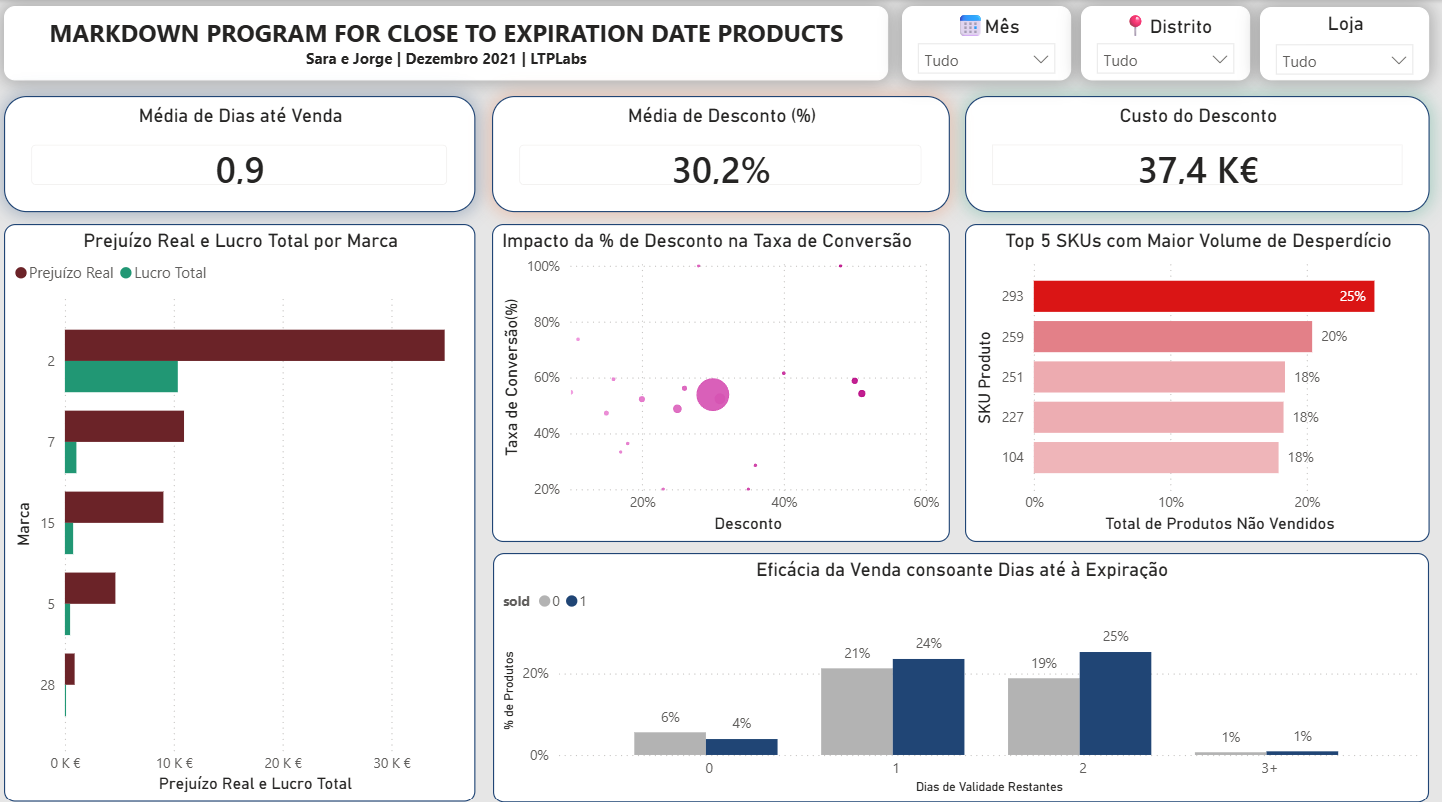

This screenshot's page, from the dashboard's own definition file:
{"tool":"powerbi","page":{"name":"Analysis","canvas":[1280,720],"ordinal":1},"visuals":[{"type":"textbox","box":[3.3,5.6,784.4,65.6],"z":0},{"type":"cardVisual","title":"Média de Dias até Venda","fields":{"Data":["Products.Média de dias até venda"]},"box":[3.3,85.6,417.8,103.3],"z":1000},{"type":"cardVisual","title":"Custo do Desconto","fields":{"Data":["Products.Custo do desconto"]},"box":[855.6,85.6,412.2,103.3],"z":2000},{"type":"cardVisual","title":"Média de Desconto (%)","fields":{"Data":["Avg(Products.Desconto)"]},"box":[436.7,85.6,405.6,103.3],"z":3000},{"type":"slicer","title":"📅Mês ","fields":{"Values":["Calendario.Mês"]},"box":[800,5.6,150,65.6],"z":4000},{"type":"slicer","title":"📍Distrito","fields":{"Values":["Stores.district"]},"box":[958.9,5.6,150,65.6],"z":5000},{"type":"slicer","title":"Loja","fields":{"Values":["Stores.idstore"]},"box":[1117.4,5.8,150,65.1],"z":6000},{"type":"clusteredBarChart","fields":{"Y":["Products.Prejuízo Real","Products.Lucro Total"],"Category":["Products.brand"]},"box":[3.3,198.9,417.8,513.3],"z":7000},{"type":"barChart","title":"Top 5 SKUs com Maior Volume de Desperdício","fields":{"Y":["Products.Total de Produtos Não Vendidos"],"Category":["Products.sku"]},"box":[855.6,198.9,412.2,282.2],"z":9000},{"type":"scatterChart","title":"Impacto da % de Desconto na Taxa de Conversão","fields":{"X":["Products.discount"],"Y":["Products.Taxa de Conversão(%)"],"Size":["Sum(Products.labelqty)"]},"box":[436.7,198.9,405.6,282.2],"z":10000},{"type":"clusteredColumnChart","title":"Eficácia da Venda consoante Dias até à Expiração","fields":{"Series":["Products.sold"],"Y":["Sum(Products.sku)"],"Category":["Products.Days Group"]},"box":[437.2,490.7,830.2,222.1],"z":10001}]}

Visuals, with their boxes in screenshot pixels (x1, y1, x2, y2), scaled from the page's 1280x720 canvas onto the 1442x802 screenshot:
textbox: box(4, 6, 887, 79)
"Média de Dias até Venda" cardVisual: box(4, 95, 474, 210)
"Custo do Desconto" cardVisual: box(964, 95, 1428, 210)
"Média de Desconto (%)" cardVisual: box(492, 95, 949, 210)
"📅Mês " slicer: box(901, 6, 1070, 79)
"📍Distrito" slicer: box(1080, 6, 1249, 79)
"Loja" slicer: box(1259, 6, 1428, 79)
clusteredBarChart - Products.Prejuízo Real x Products.Lucro Total: box(4, 222, 474, 793)
"Top 5 SKUs com Maior Volume de Desperdício" barChart: box(964, 222, 1428, 536)
"Impacto da % de Desconto na Taxa de Conversão" scatterChart: box(492, 222, 949, 536)
"Eficácia da Venda consoante Dias até à Expiração" clusteredColumnChart: box(493, 547, 1428, 794)
